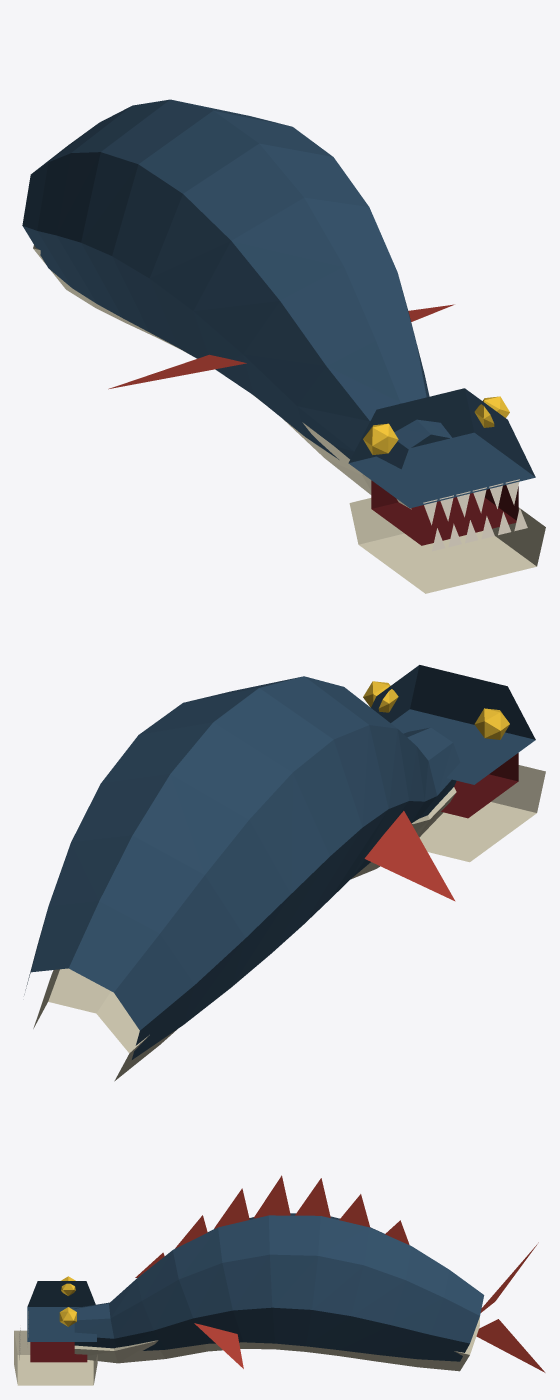
Rendered from monster_kinh_ngu.glb.
3 renders of one model, top to bottom at view 1: azimuth 30°, elevation 25°; view 2: azimuth 150°, elevation 25°; view 3: azimuth 270°, elevation 25°, orthographic. The views are drawn at different scales.
Parts seen in each view (by area): view 1: monster_kinh_ngu; view 2: monster_kinh_ngu; view 3: monster_kinh_ngu.
Part boxes in pixels (x1=…): monster_kinh_ngu: x1=22, y1=99, x2=545, y2=593; monster_kinh_ngu: x1=24, y1=665, x2=545, y2=1081; monster_kinh_ngu: x1=14, y1=1175, x2=545, y2=1385.
Size of the model in its own units: 7.2 by 6.91 by 16.82.
